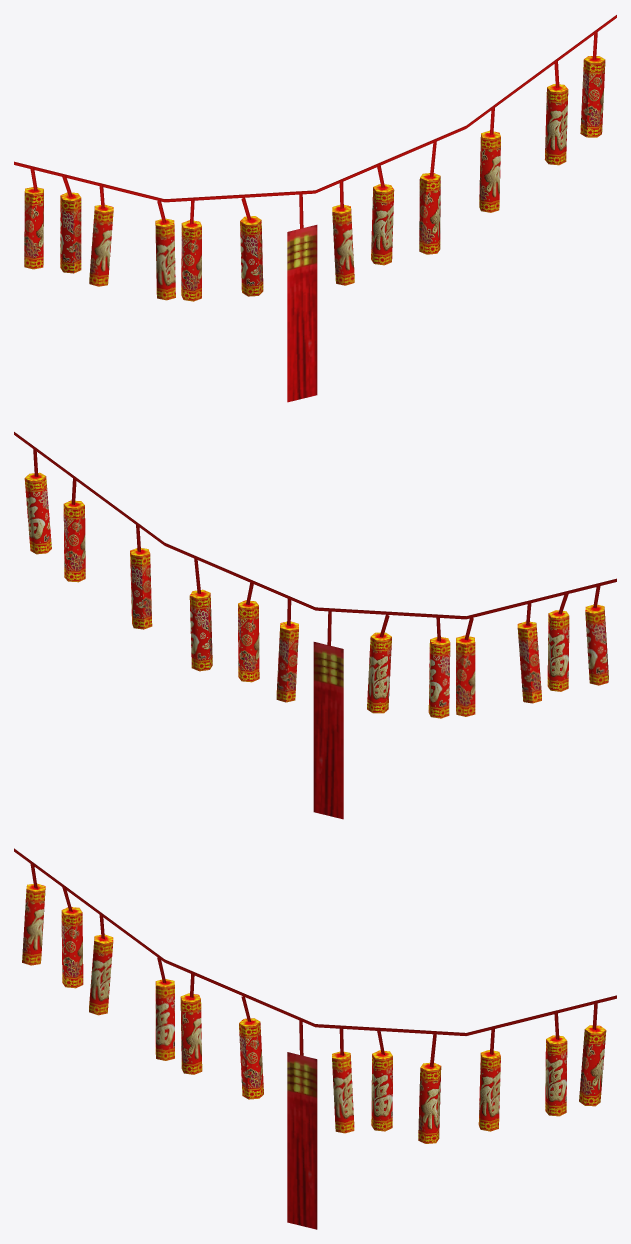
The model's file is furni_0200229.FBX.
The picture shows the model from 3 angles, top to bottom: view 1: azimuth 30°, elevation 25°; view 2: azimuth 150°, elevation 25°; view 3: azimuth 330°, elevation 25°; orthographic projection.
Visible parts, largest first — view 1: furni_0200229; view 2: furni_0200229; view 3: furni_0200229.
Part boxes in pixels (x1,y1,x2,y2): furni_0200229: (14, 15, 616, 402); furni_0200229: (14, 432, 616, 819); furni_0200229: (14, 848, 616, 1229).
Bounding box in the file's own units: 240 × 117 × 8.56.
1 material, 1 textured.
